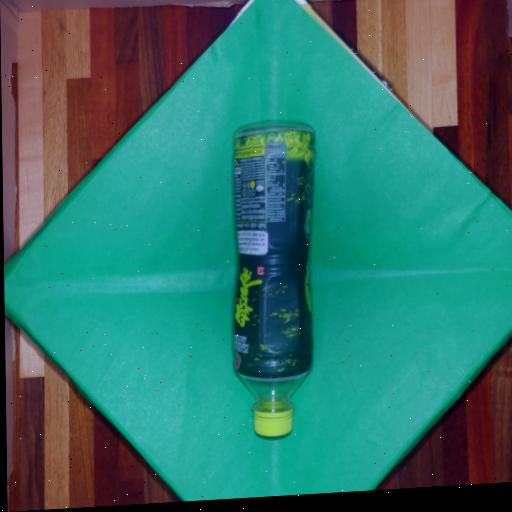bottle: (215, 104, 338, 455)
